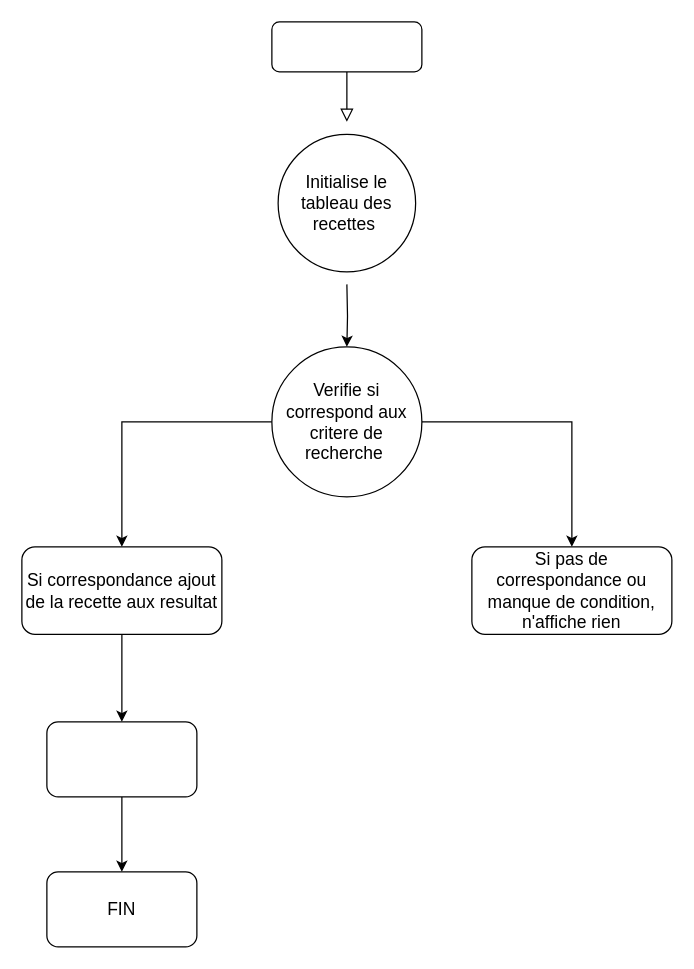
This 694x969 diagram has some shape labels left out. Each missing label, with the box of its shape:
Démarrer: (271, 21, 422, 72)
Retourne des résultats: (46, 721, 197, 797)
